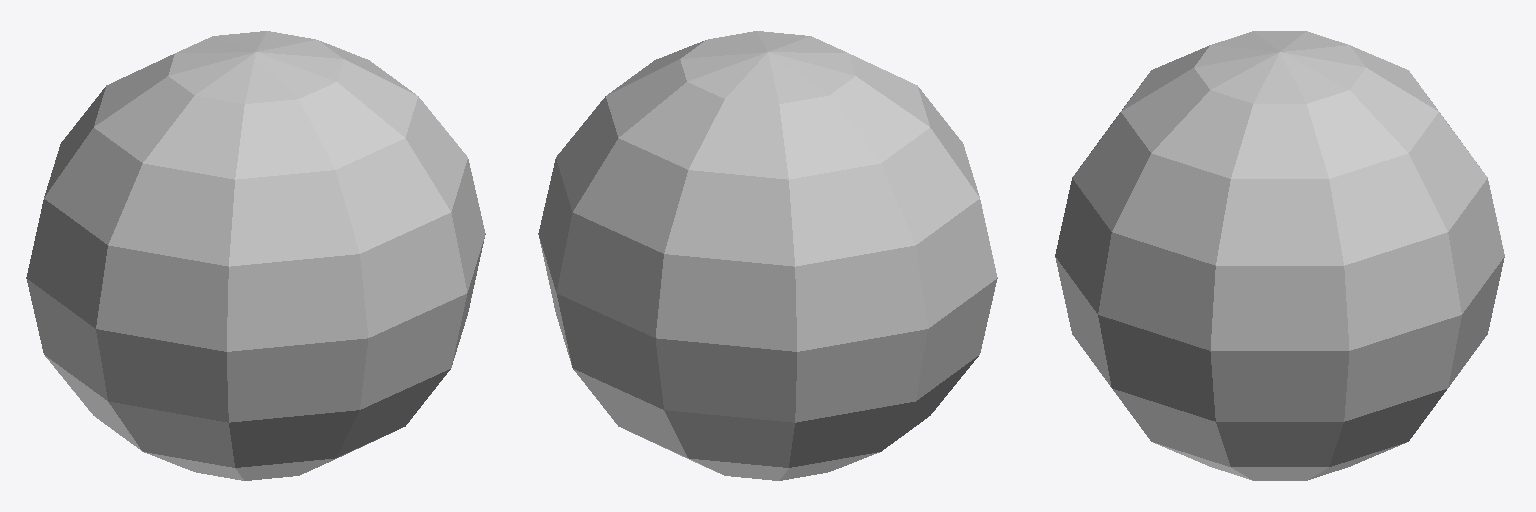
Rendered from reactor_matter.obj.
3 views of the same model, side by side, from view 1: azimuth 30°, elevation 25°; view 2: azimuth 150°, elevation 25°; view 3: azimuth 270°, elevation 25° (orthographic).
Parts seen in each view (by area): view 1: matter; view 2: matter; view 3: matter.
Part boxes in pixels (left/top/right/bottom): matter: left=26, top=31, right=485, bottom=480; matter: left=538, top=31, right=997, bottom=480; matter: left=1055, top=31, right=1504, bottom=480.
Size of the model in its own units: 1.5 by 1.5 by 1.5.